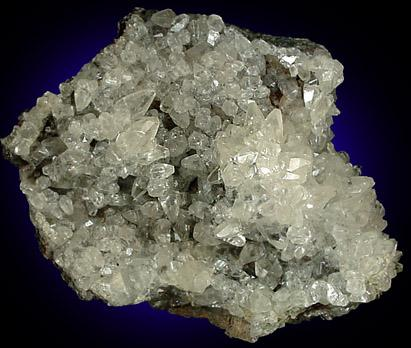calcite: (1, 9, 399, 314)
